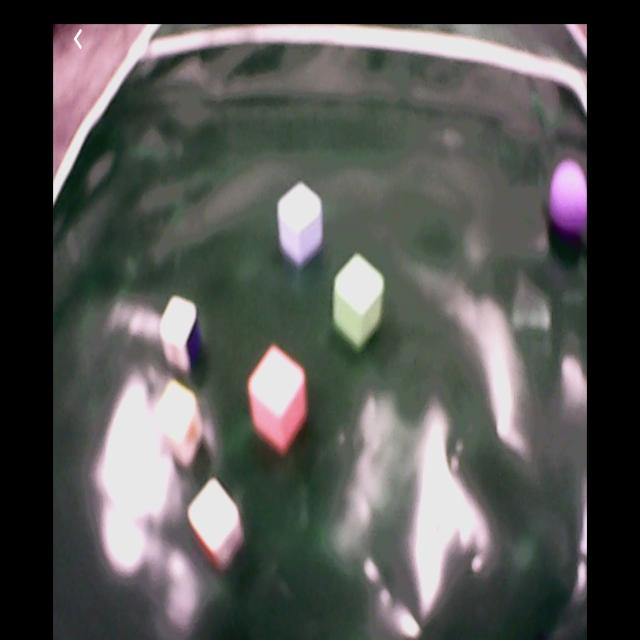ball: (551, 161, 587, 235)
